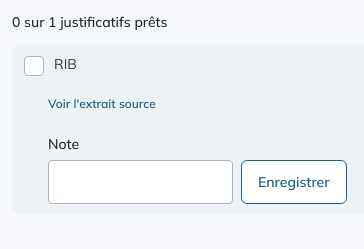
Test: PilotageRequiredDocsList (US-5.3) › échec PATCH (ex. 429) au cochage → message d'erreur visible, case repliée
Click the checkbox labelled "RIB" at coordinates (34, 66), box [24,56,44,76]
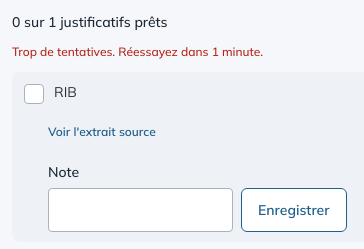
Check: the checkbox labelled "RIB" is not checked, box [24,84,44,104]
Check: the text "Trop de tentatives. Réessayez dans 1 minute." is shown, box [12,44,263,59]
